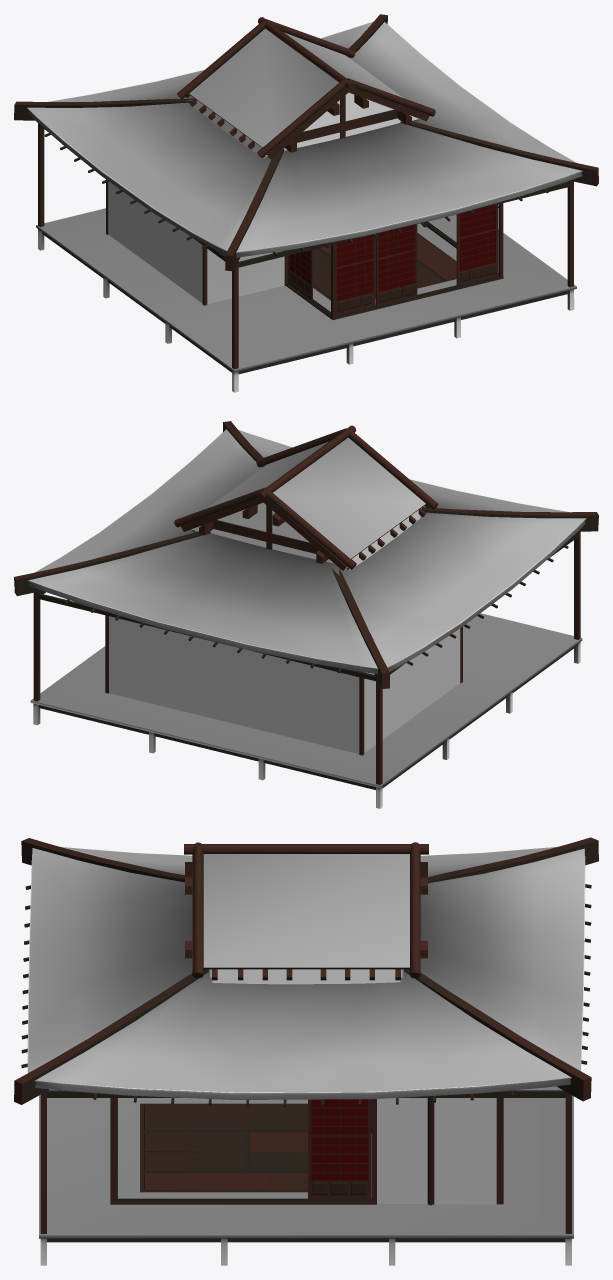
File: AsianBuilding.fbx
The picture shows the model from 3 angles, top to bottom: view 1: azimuth 30°, elevation 25°; view 2: azimuth 150°, elevation 25°; view 3: azimuth 270°, elevation 25°; orthographic projection. The views are drawn at different scales.
Parts seen in each view (by area): view 1: AsianHouse; view 2: AsianHouse; view 3: AsianHouse.
Boxes of the visible parts, x1,y1,x2,y2 form: AsianHouse: [14, 14, 598, 392]; AsianHouse: [14, 421, 598, 808]; AsianHouse: [14, 837, 598, 1265].
Bounding box in the file's own units: 988 × 581 × 989.
